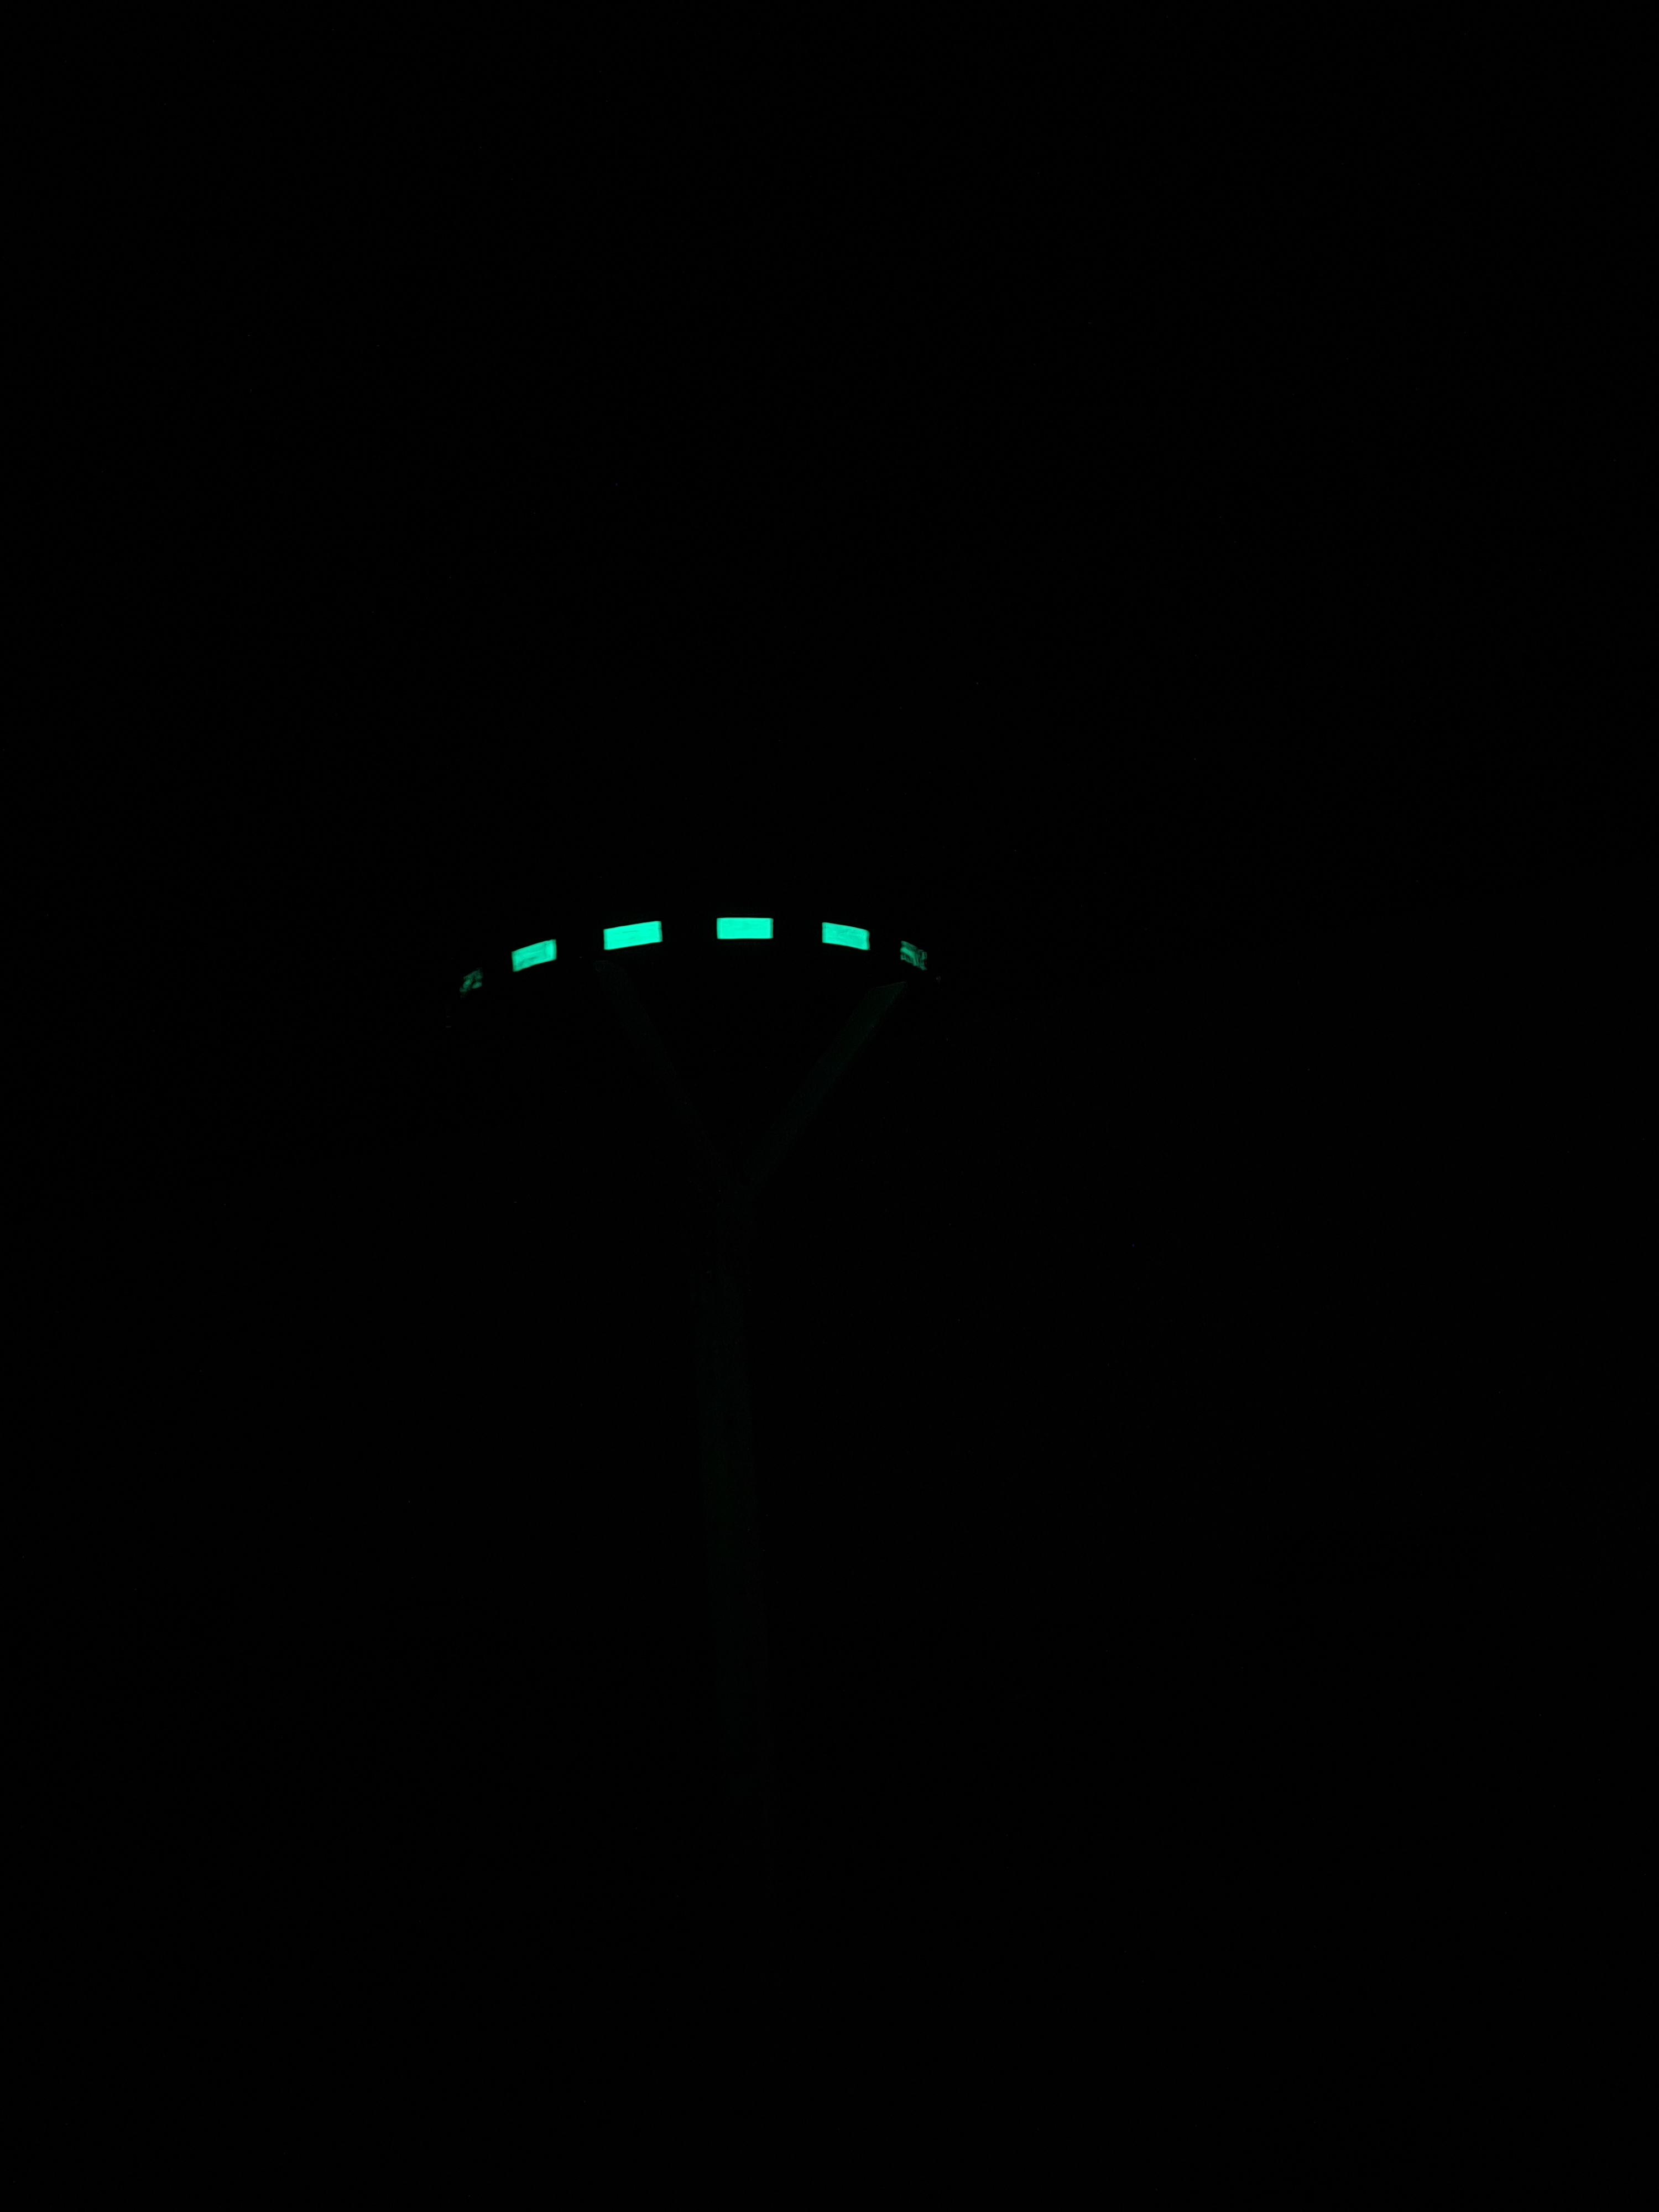hoop: (410, 916, 950, 991)
